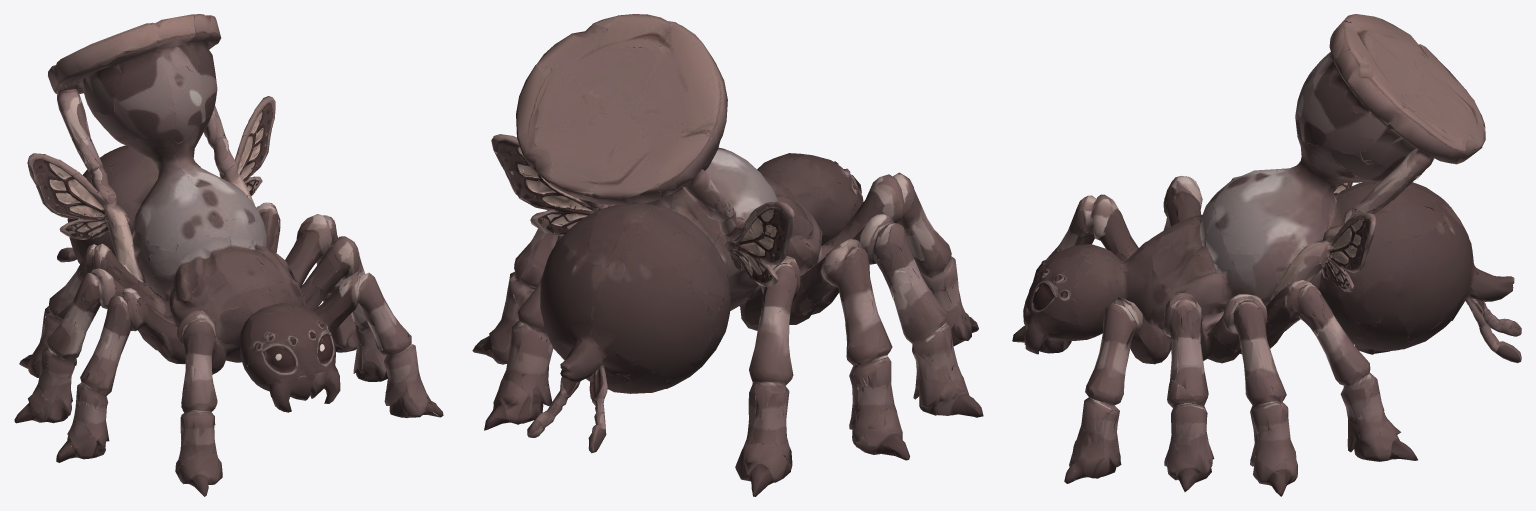
3 renders of one model, left to right at view 1: azimuth 30°, elevation 25°; view 2: azimuth 150°, elevation 25°; view 3: azimuth 270°, elevation 25°, orthographic. The views are drawn at different scales.
Visible parts, largest first — view 1: Mesh_0; view 2: Mesh_0; view 3: Mesh_0.
Part boxes in pixels (x1,y1,x2,y2): Mesh_0: [14, 14, 443, 496]; Mesh_0: [472, 14, 983, 496]; Mesh_0: [1012, 14, 1521, 496].
Bounding box in the file's own units: 1.74 × 1.55 × 1.9.
1 material, 1 textured.
